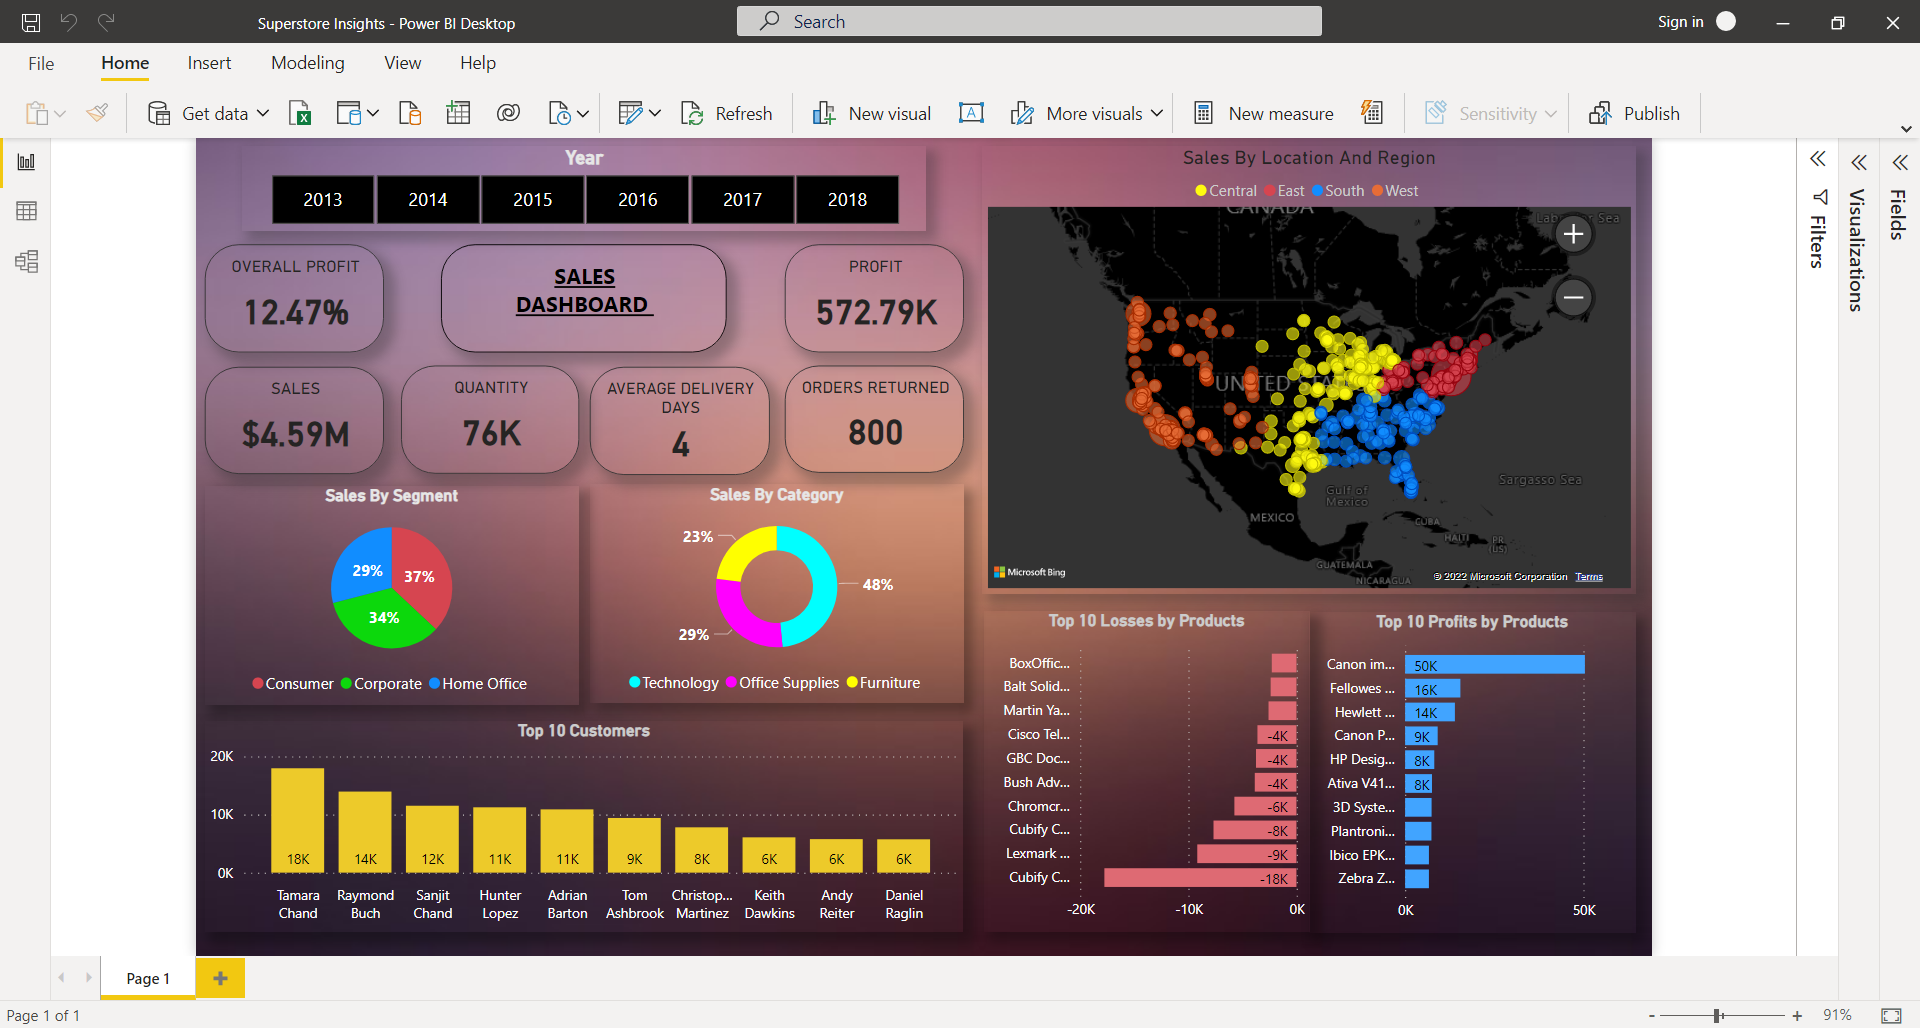

Layout of this report page (visuals, bound fields, positions):
{"tool":"powerbi","page":{"name":"Page 1","canvas":[1280,720],"ordinal":0},"visuals":[{"type":"card","title":"SALES","fields":{"Values":["Superstore.Sales"]},"box":[7.9,200.8,157.9,94.7],"z":0},{"type":"card","title":"QUANTITY","fields":{"Values":["Superstore.Quantity"]},"box":[180,200,157,95],"z":1000},{"type":"card","title":"AVERAGE DELIVERY DAYS","fields":{"Values":["Superstore.Delivery Days"]},"box":[346,201,158,95],"z":2000},{"type":"slicer","title":"Year","fields":{"Values":["Superstore.Year"]},"box":[40.3,7,601.6,75.4],"z":3000},{"type":"card","title":"ORDERS RETURNED","fields":{"Values":["Returns.Return Orders"]},"box":[517.4,200,157.9,94.7],"z":4000},{"type":"map","title":"Sales By Location And Region","fields":{"Size":["Superstore.Sales"],"Category":["Superstore.Location"],"Series":["Superstore.Region"]},"box":[691.9,7,575.3,394.6],"z":5000},{"type":"barChart","title":"Top 10 Profits by Products ","fields":{"Y":["Superstore.Profit"],"Category":["Superstore.Product Name"]},"box":[978.2,416.5,288,282],"z":6000},{"type":"barChart","title":"Top 10 Losses by Products ","fields":{"Y":["Superstore.Profit"],"Category":["Superstore.Product Name"]},"box":[692,416,287,282],"z":7000},{"type":"pieChart","title":"Sales By Segment","fields":{"Category":["Superstore.Segment"],"Y":["Superstore.Sales"]},"box":[7.9,305.2,328.9,192.9],"z":8000},{"type":"donutChart","title":"Sales By Category","fields":{"Category":["Superstore.Category"],"Y":["Superstore.Sales"]},"box":[346,305,329,193],"z":9000},{"type":"columnChart","title":"Top 10 Customers","fields":{"Y":["Superstore.Profit"],"Category":["Superstore.Customer Name"]},"box":[8,512,667,186],"z":10000},{"type":"card","title":"PROFIT","fields":{"Values":["Superstore.Profit"]},"box":[517.4,93,157.9,95.6],"z":11000},{"type":"card","title":"OVERALL PROFIT ","fields":{"Values":["Superstore.Profit %"]},"box":[7.9,93.8,157.9,95.6],"z":12000},{"type":"textbox","box":[215.9,93.4,250.9,95.3],"z":13000}]}

Visuals, with their boxes on the page's 1280x720 design canvas (x1, y1, x2, y2). These are canvas units, not pixel positions in the 1920x1028 screenshot, which may show the page scaled, cropped or inside an application window:
"SALES" card: (8,201,166,296)
"QUANTITY" card: (180,200,337,295)
"AVERAGE DELIVERY DAYS" card: (346,201,504,296)
"Year" slicer: (40,7,642,82)
"ORDERS RETURNED" card: (517,200,675,295)
"Sales By Location And Region" map: (692,7,1267,402)
"Top 10 Profits by Products " barChart: (978,416,1266,698)
"Top 10 Losses by Products " barChart: (692,416,979,698)
"Sales By Segment" pieChart: (8,305,337,498)
"Sales By Category" donutChart: (346,305,675,498)
"Top 10 Customers" columnChart: (8,512,675,698)
"PROFIT" card: (517,93,675,189)
"OVERALL PROFIT " card: (8,94,166,189)
textbox: (216,93,467,189)
